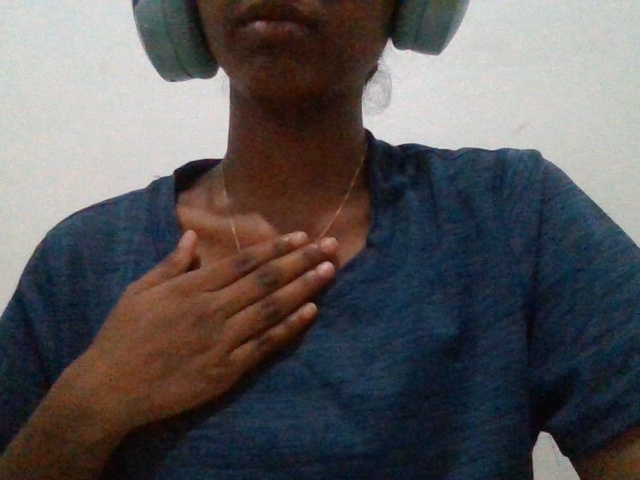Please: (36, 224, 381, 444)
